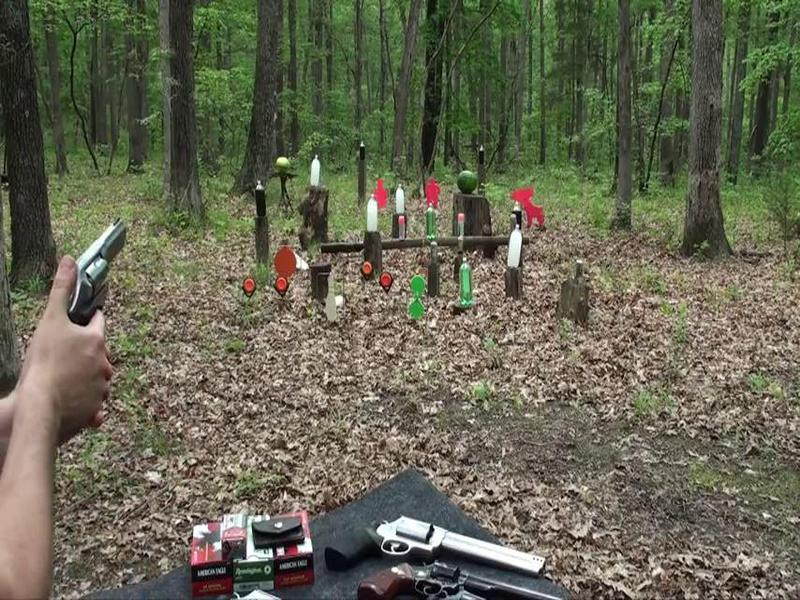Revolver: (41, 205, 148, 345)
